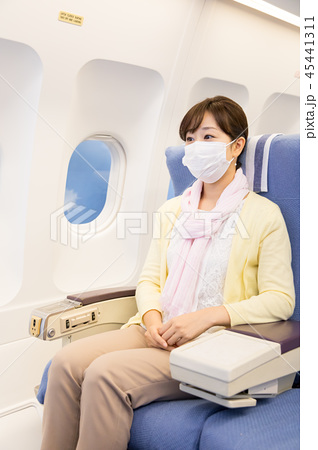mask: (182, 142, 241, 190)
